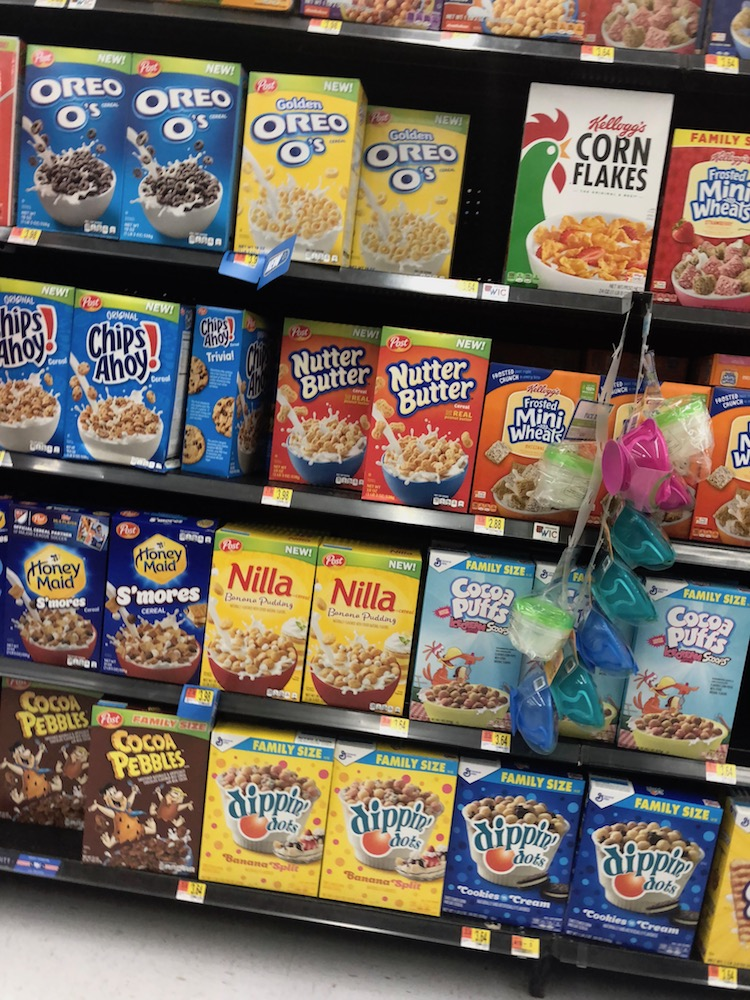Chips Ahoys-565717529: (62, 284, 172, 466), (1, 280, 62, 458)
Cocoa Pebbles-555517893: (83, 703, 203, 872)
Cocoa Puffs Ice Cream-563408546: (413, 554, 533, 714), (628, 584, 741, 752)
Dippin Dots Banana-568929376: (323, 743, 447, 923), (203, 739, 321, 895)
Dippin Dots Cookies & Cream -568929378: (448, 761, 573, 943), (580, 780, 715, 946)
Honey Maid Graham -563424385: (106, 514, 205, 686), (1, 509, 105, 655)
Mini Wheats Straw-567084832: (647, 140, 750, 301)
Nilla -568301014: (305, 539, 419, 725), (211, 528, 315, 700)
Nutter Butter-565717511: (370, 329, 484, 514), (268, 321, 365, 489)
Oreo Golden-568301011: (237, 70, 354, 265), (352, 100, 459, 271)
Oreo-563424384: (130, 52, 241, 253), (15, 50, 125, 237)
